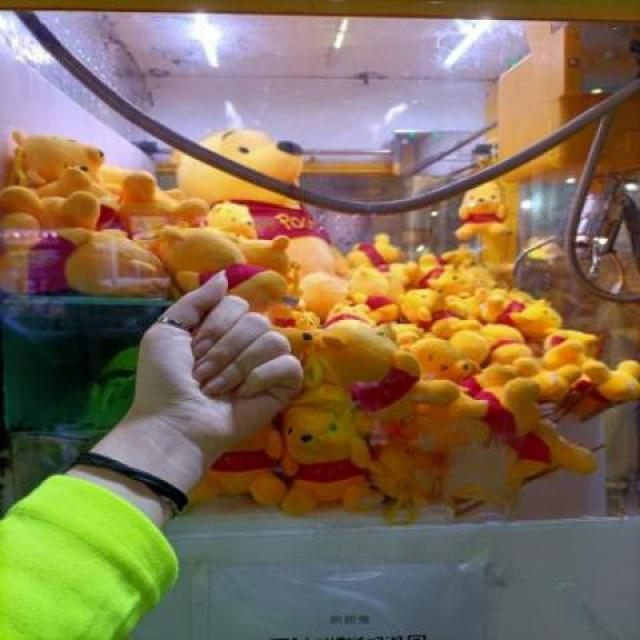Closed Hand: (124, 265, 309, 456)
